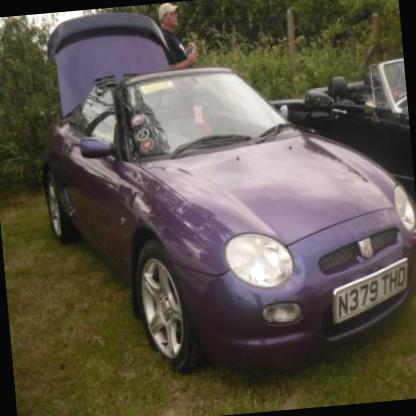car: (15, 0, 415, 415), (262, 46, 415, 226), (380, 45, 408, 112)
